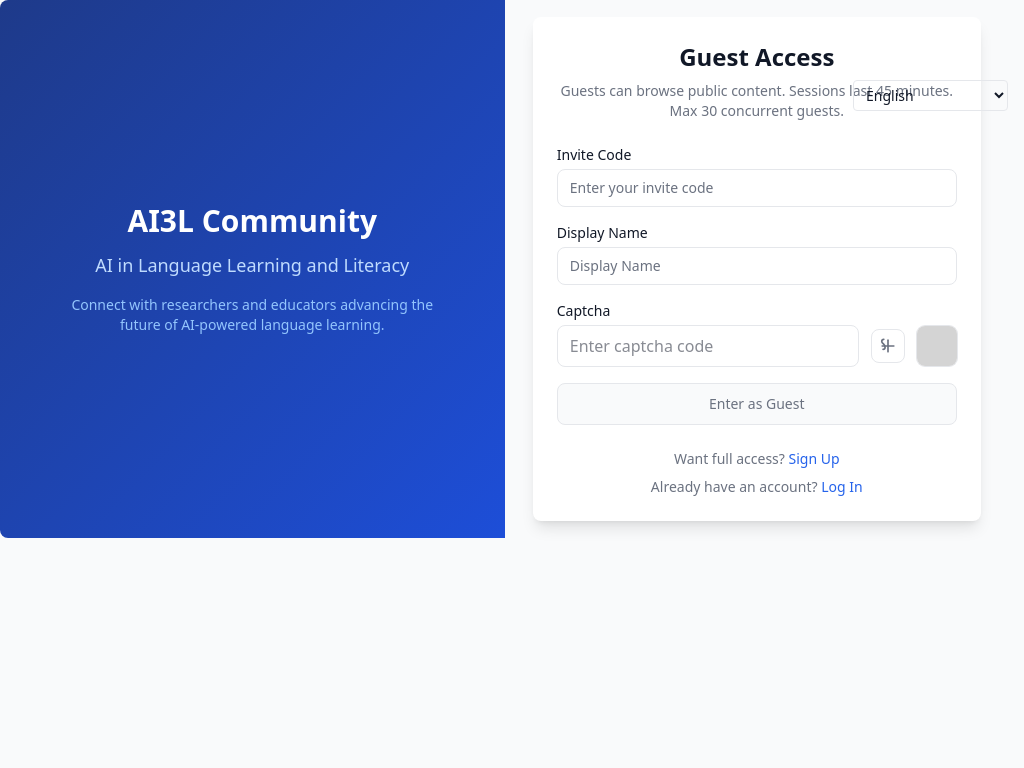
it: GuestLoginView › error handling › displays fallback error when API returns no detail
In the field with id "input-invite-code": (757, 188) x1=557 y1=169 x2=957 y2=207, type "GUEST-CODE"
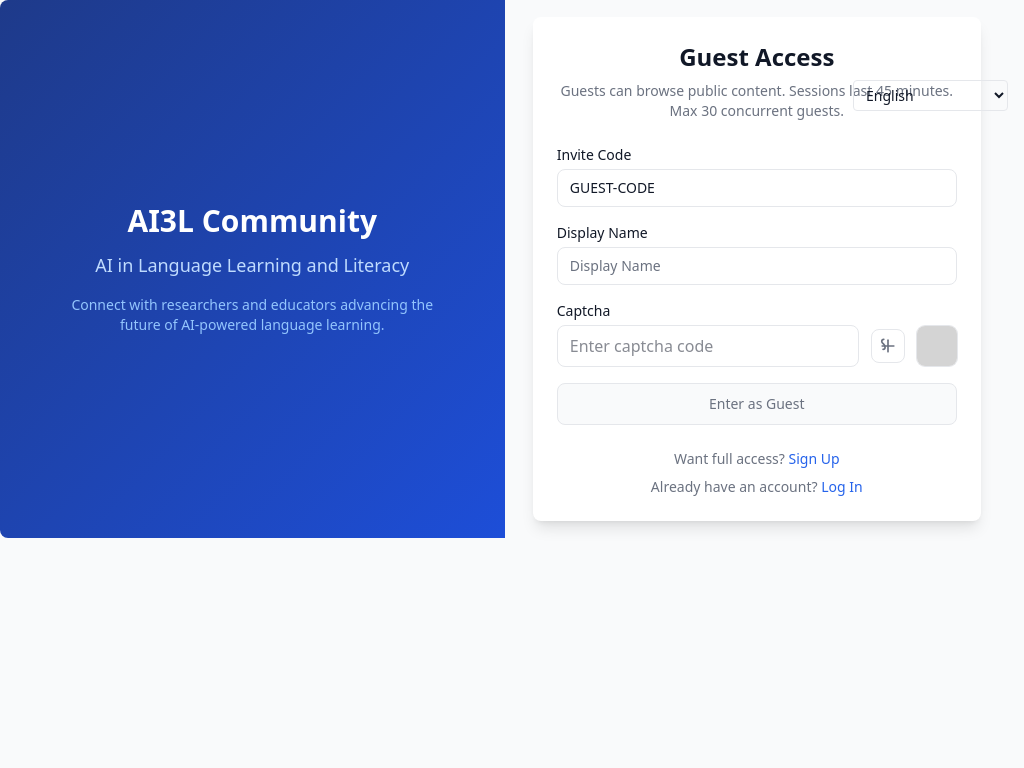
In the field with id "input-display-name": (757, 266) x1=557 y1=247 x2=957 y2=285, type "Guest User"
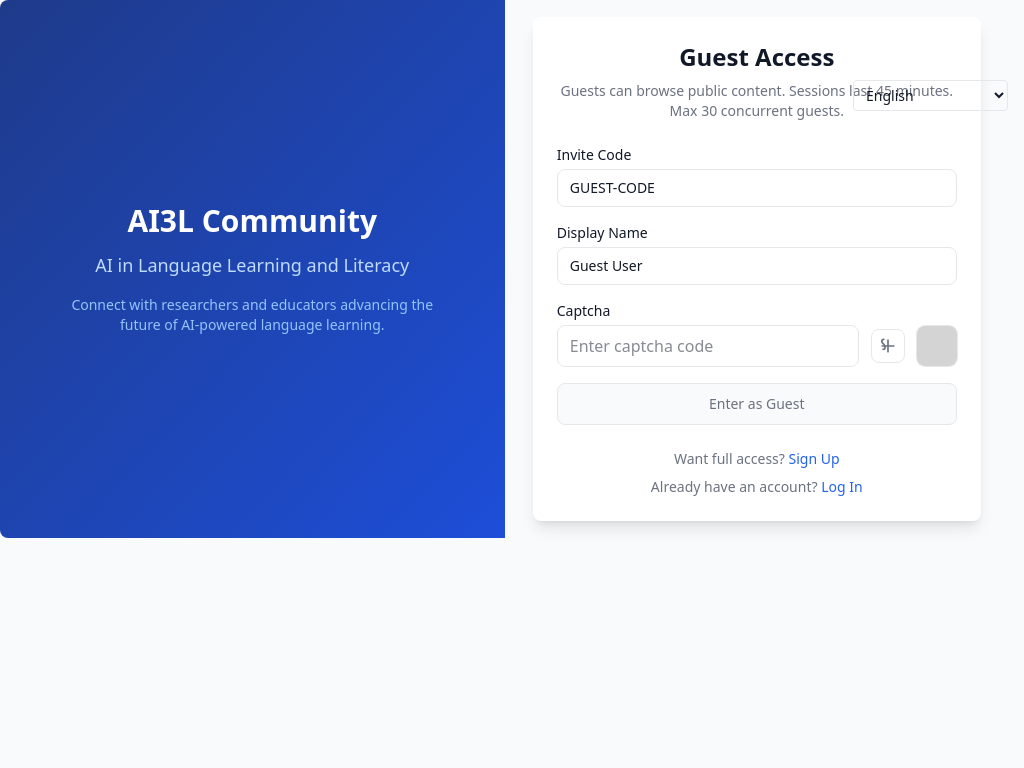
In the field labelled "Captcha": (708, 346) x1=557 y1=325 x2=859 y2=367, type "1234"
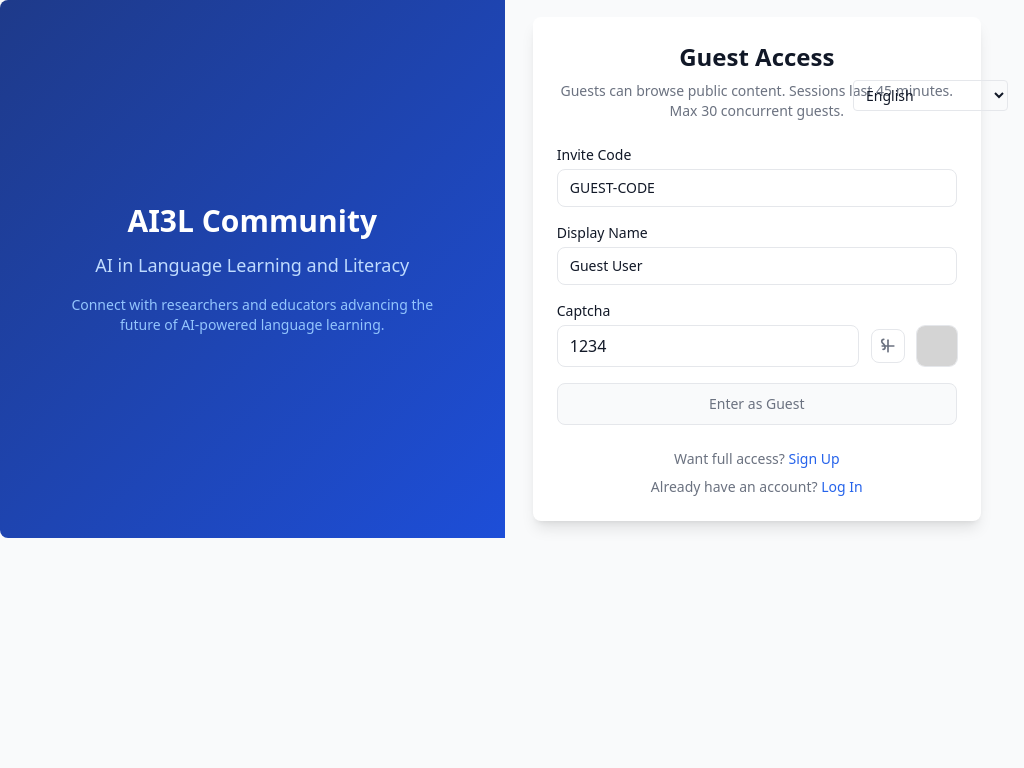
Submit the form, box x1=557 y1=145 x2=957 y2=425
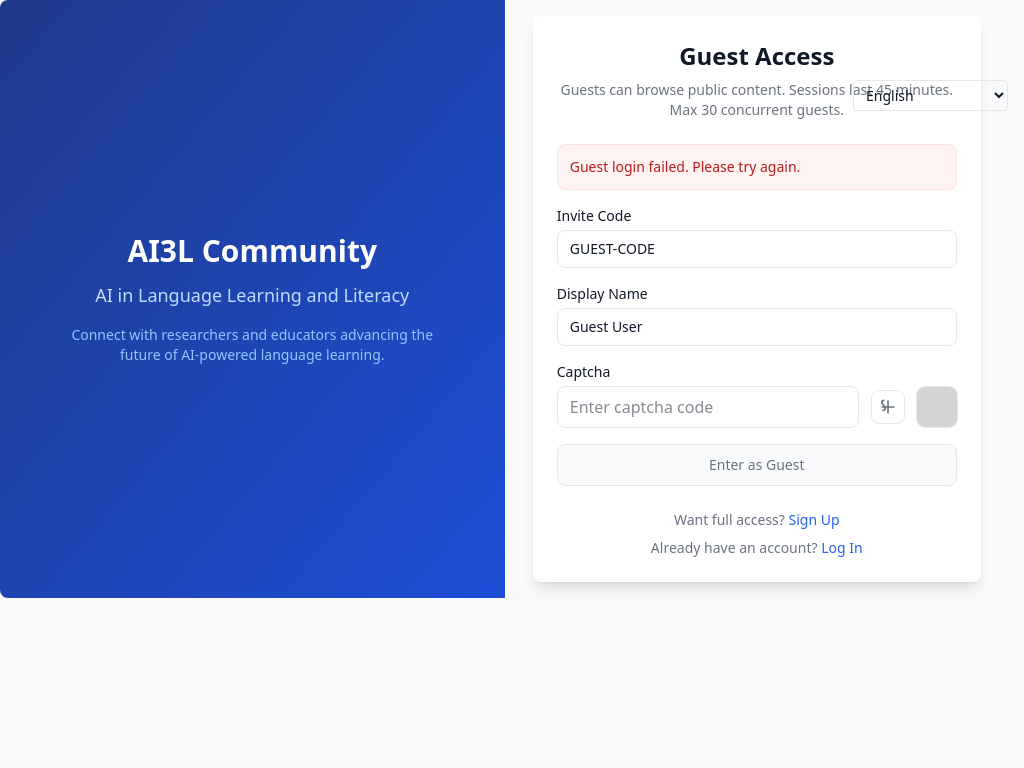
Now the text "Guest login failed. Please try again." is shown, box x1=570 y1=157 x2=800 y2=176
